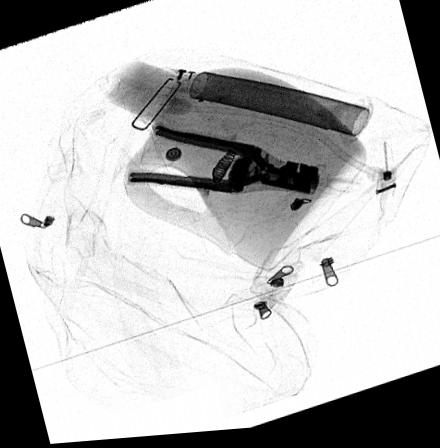Pliers: (127, 126, 319, 200)
